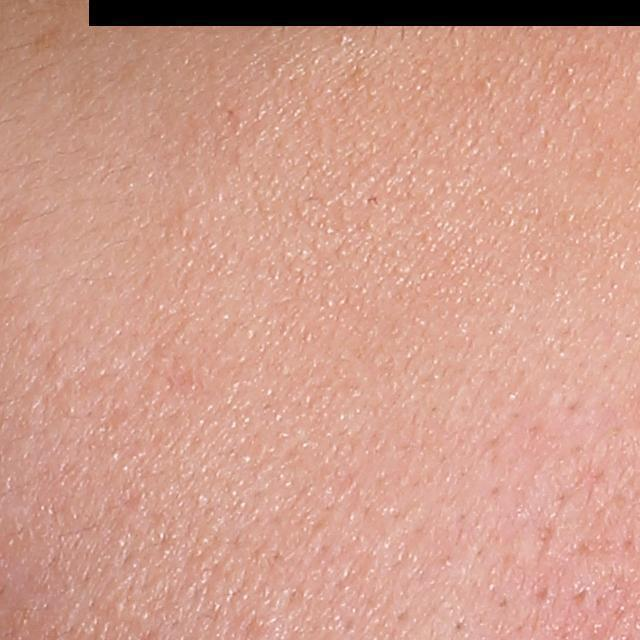melasma: (32, 22, 67, 53)
